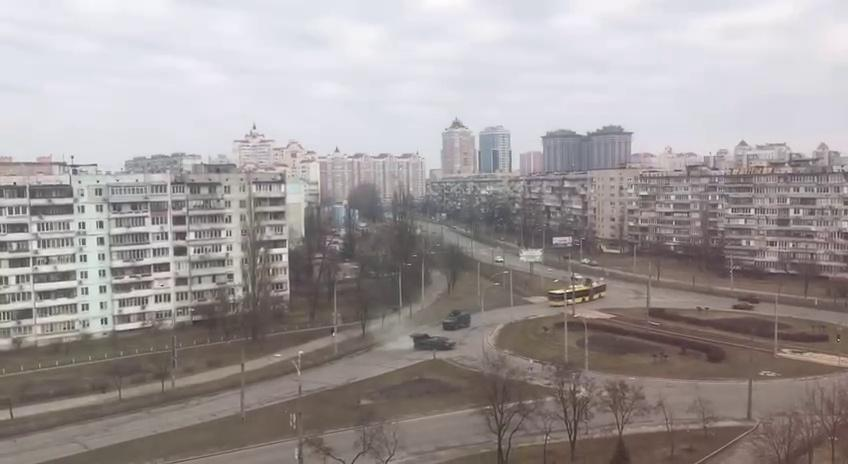armored_car: (443, 310, 470, 331)
car: (494, 256, 504, 262)
tank: (410, 332, 457, 350)
